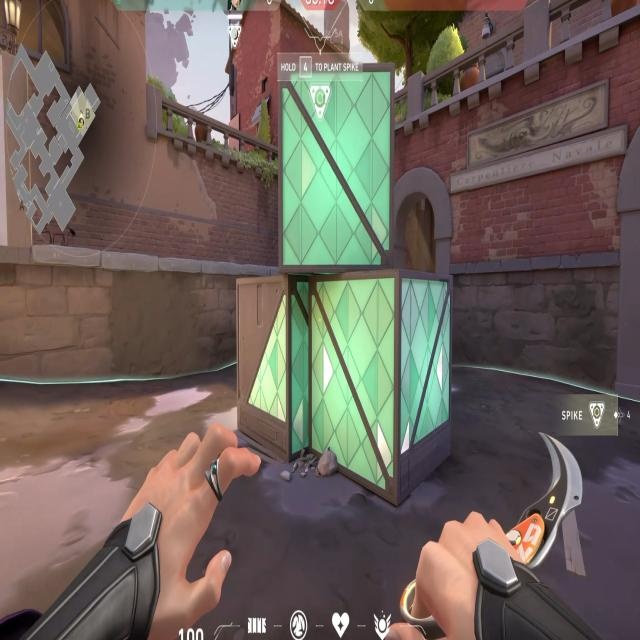B_Site_Box: (234, 26, 456, 514)
